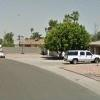Tree: (36, 8, 96, 51)
